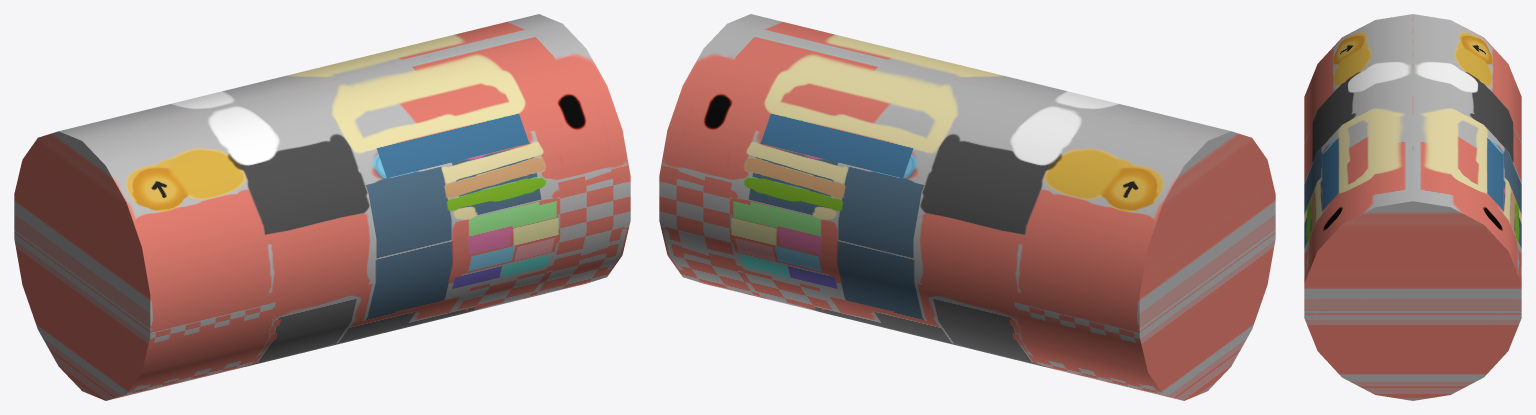
The model's file is slot_roll.FBX.
3 renders of one model, left to right at view 1: azimuth 30°, elevation 25°; view 2: azimuth 150°, elevation 25°; view 3: azimuth 270°, elevation 25°, orthographic. The views are drawn at different scales.
Visible parts, largest first — view 1: Cylinder079; view 2: Cylinder079; view 3: Cylinder079.
Part boxes in pixels (bbox=[...]): Cylinder079: bbox=[14, 14, 630, 400]; Cylinder079: bbox=[659, 14, 1275, 400]; Cylinder079: bbox=[1304, 14, 1521, 400].
Bounding box in the file's own units: 219 × 109 × 107.
1 material, 1 textured.
